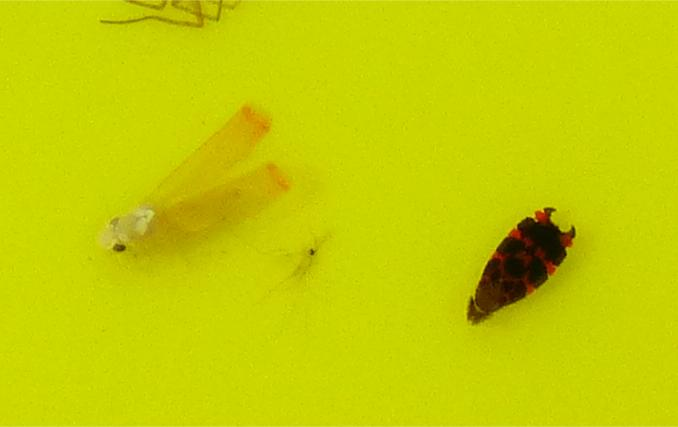Hemiptera: (100, 100, 289, 264), (464, 205, 578, 327)
Nematocera: (280, 228, 330, 294)
